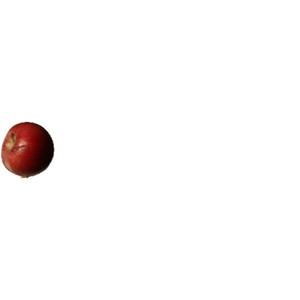maçã braeburn: (2, 120, 58, 180)
